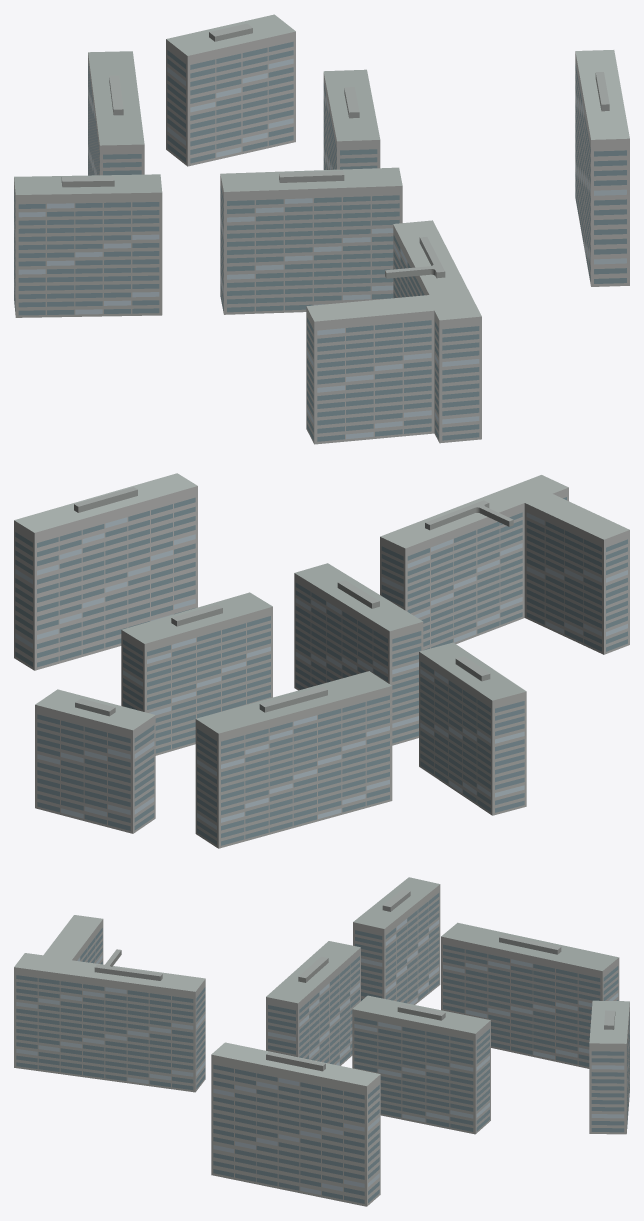
Rendered from apt-a15805404.glb.
3 renders of one model, top to bottom at view 1: azimuth 30°, elevation 25°; view 2: azimuth 150°, elevation 25°; view 3: azimuth 270°, elevation 25°, orthographic. The views are drawn at different scales.
Parts seen in each view (by area): view 1: apt-a15805404; view 2: apt-a15805404; view 3: apt-a15805404.
Boxes of the visible parts, x1,y1,x2,y2 form: apt-a15805404: (14,14,629,444); apt-a15805404: (14,473,629,848); apt-a15805404: (14,877,629,1206).
Bounding box in the file's own units: 186 × 47.81 × 212.
